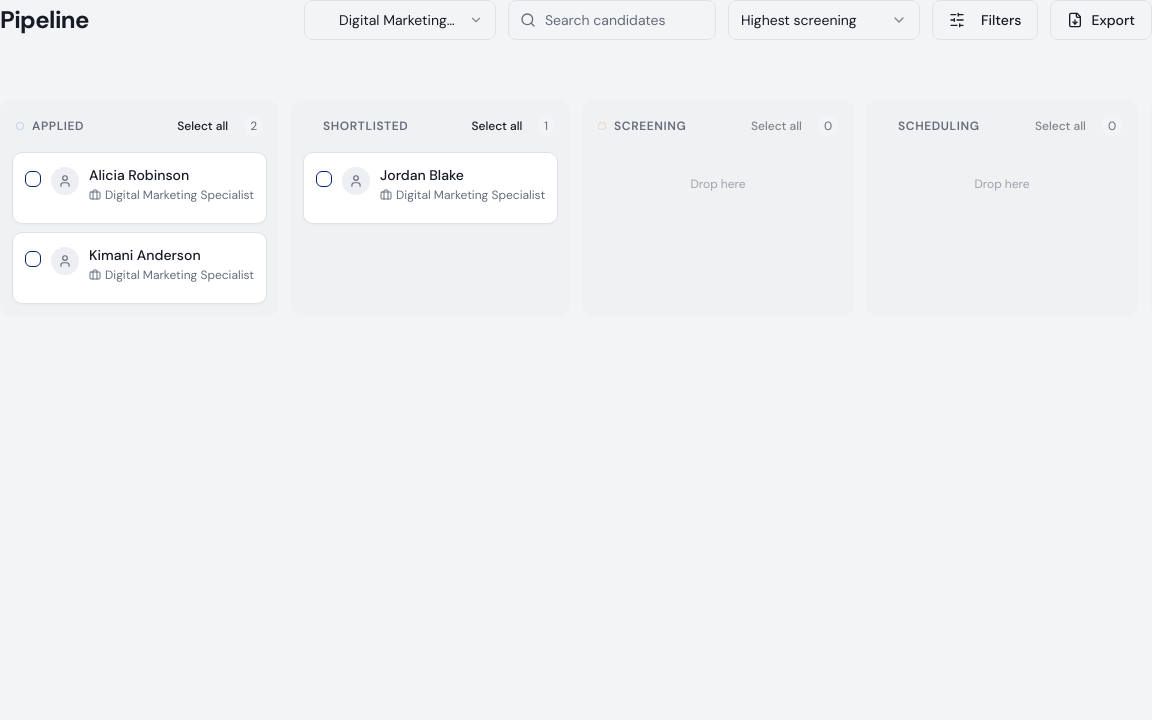
Test: Pipeline batch stage movement › keeps selection unchanged when confirmation is cancelled
Click the checkbox named "Select Alicia Robinson" at (33, 179), box [25,171,41,187]
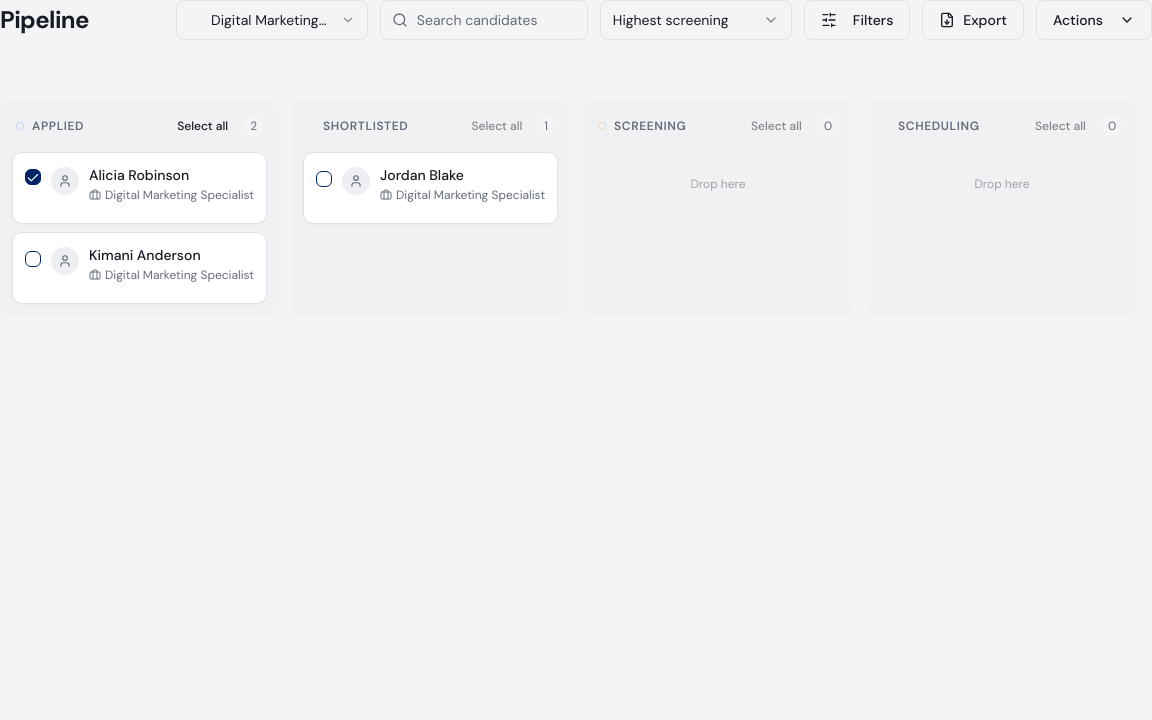
Press ArrowDown in the button "Actions", box [1036,0,1151,40]
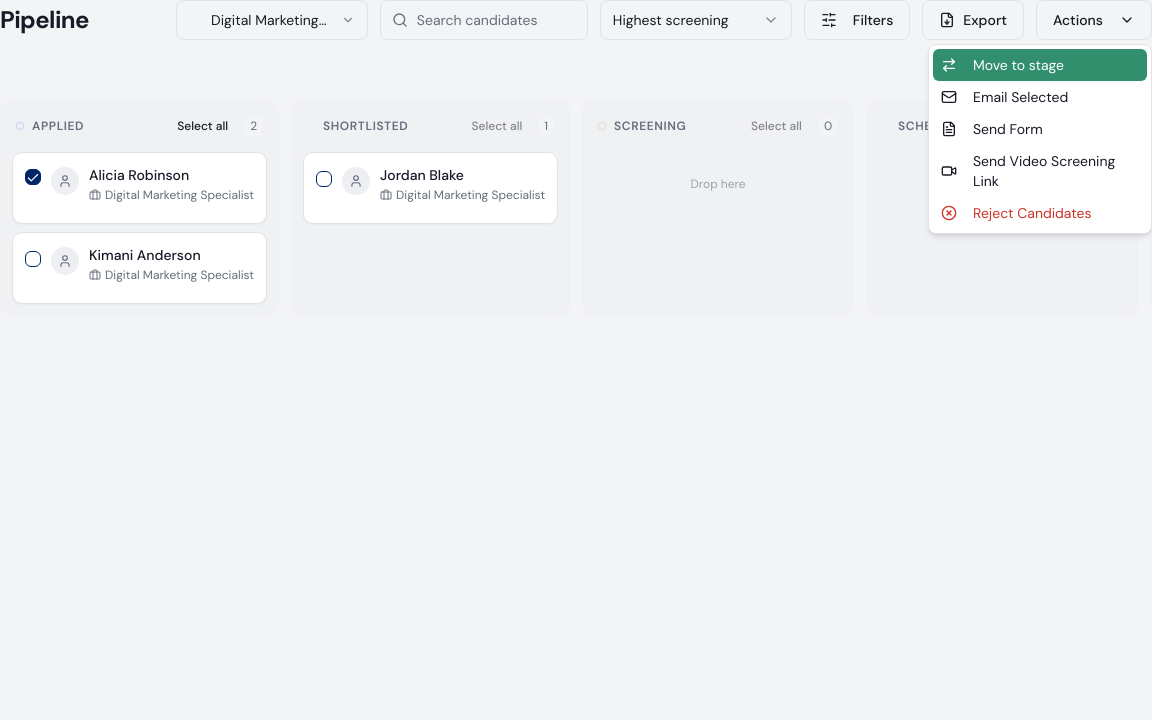
Press ArrowRight in the menu item "Move to stage", box [933,49,1147,81]
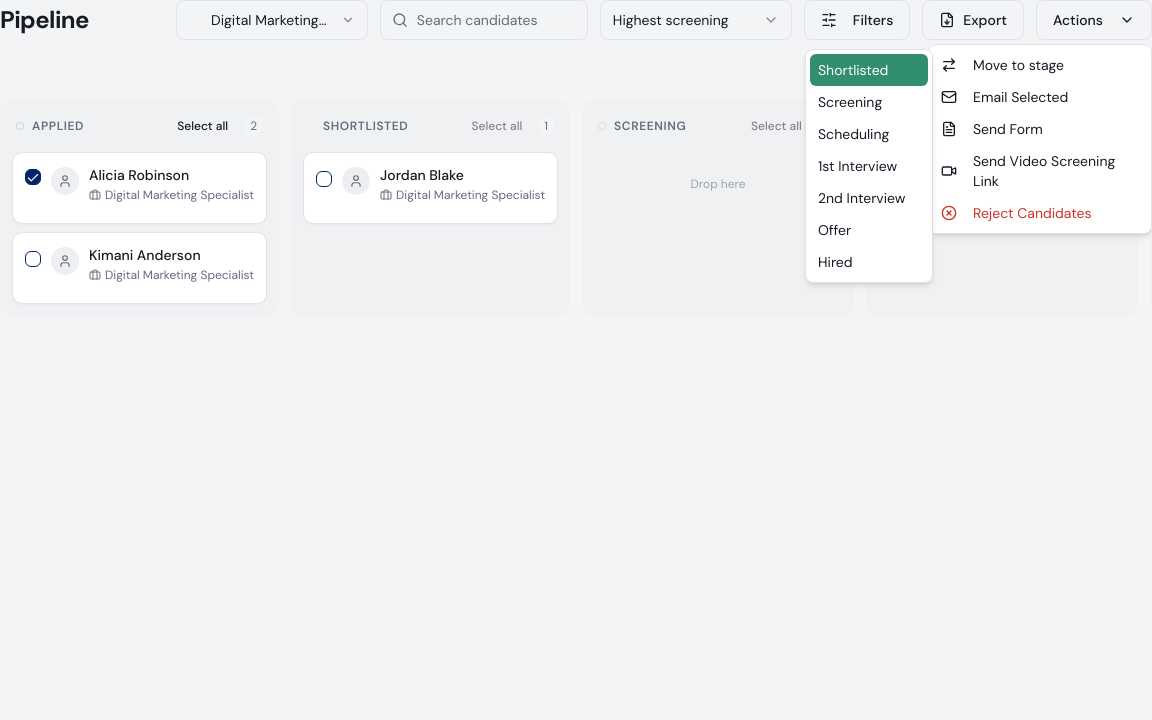
Click the menu item "Shortlisted" at (869, 70), box [810,54,928,86]
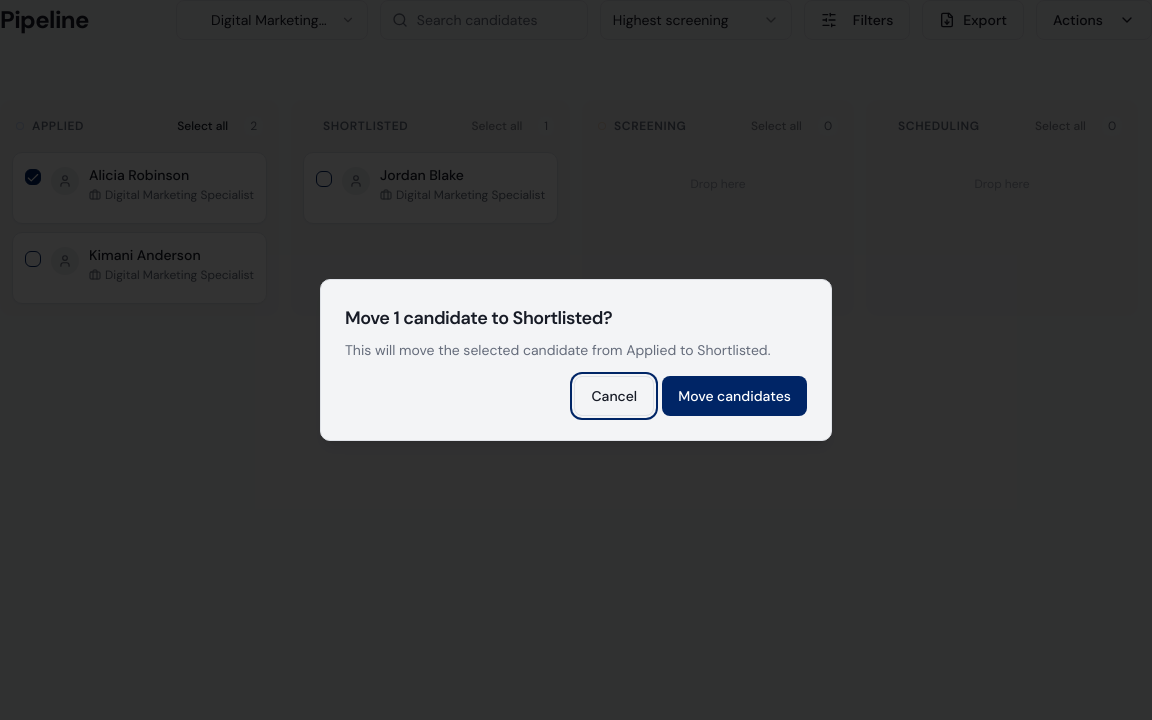
Click the button "Cancel" at (614, 396), box [574,376,654,416]
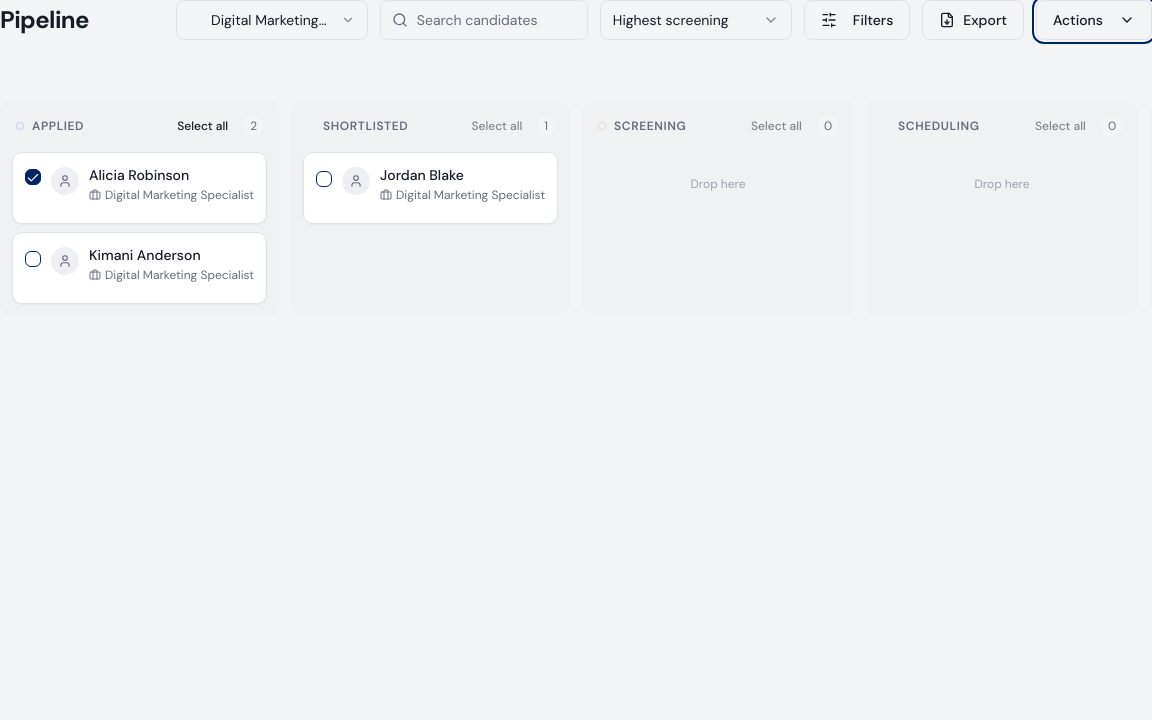
Expected: the checkbox named "Select Alicia Robinson" is checked, [25,169,41,185]
